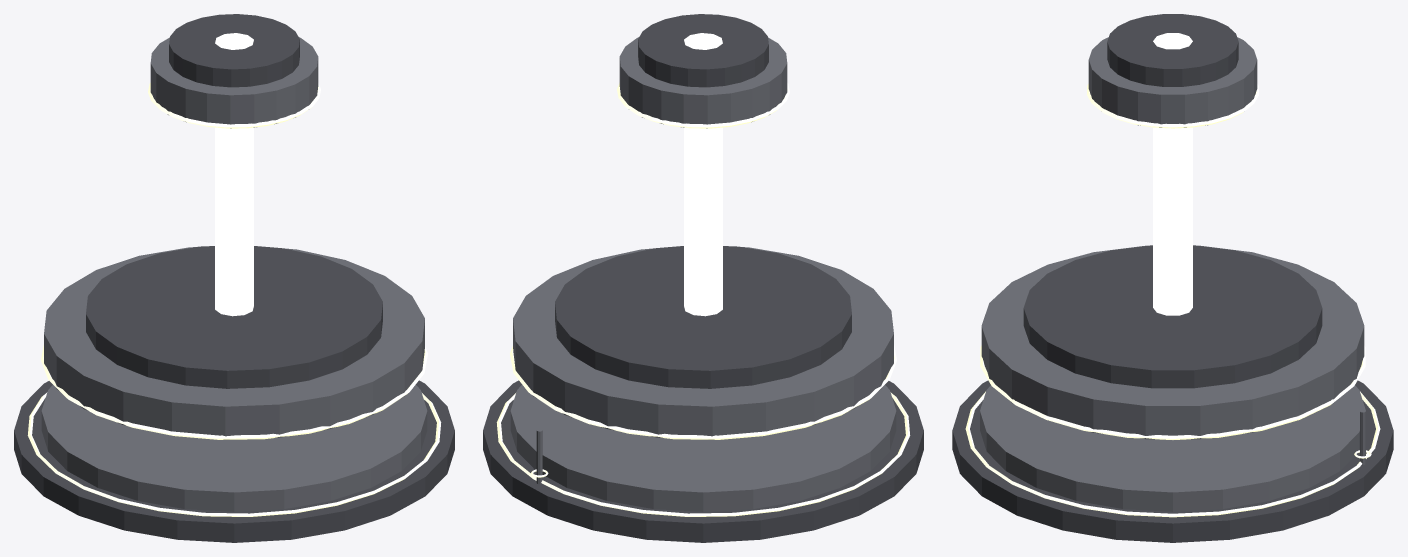
The model's file is zone_high_2_t1.glb.
3 views of the same model, side by side, from view 1: azimuth 30°, elevation 25°; view 2: azimuth 150°, elevation 25°; view 3: azimuth 270°, elevation 25° (orthographic).
Visible parts, largest first — view 1: zone_high_2_t1; view 2: zone_high_2_t1; view 3: zone_high_2_t1.
Part boxes in pixels (x1,y1,x2,y2): zone_high_2_t1: (14,14,454,542); zone_high_2_t1: (483,14,923,542); zone_high_2_t1: (952,14,1393,542).
Bounding box in the file's own units: 28.8 × 29.44 × 28.8.
